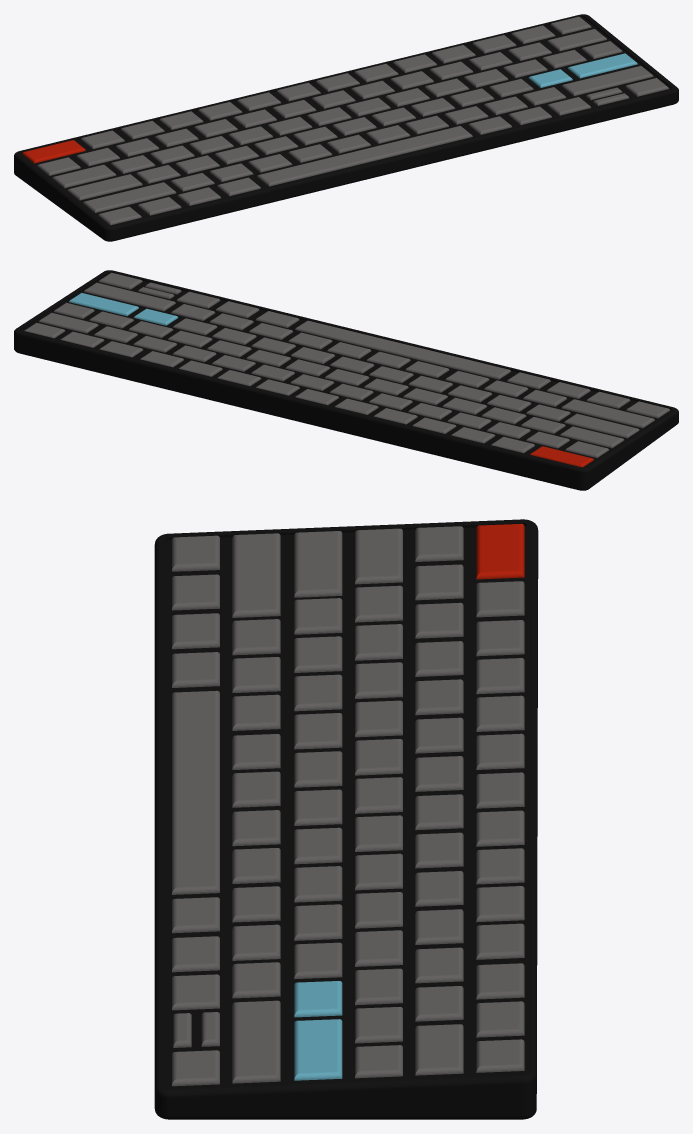
Rendered from keyboard .fbx.
The picture shows the model from 3 angles, top to bottom: view 1: azimuth 30°, elevation 25°; view 2: azimuth 150°, elevation 25°; view 3: azimuth 270°, elevation 25°; orthographic projection. The views are drawn at different scales.
Parts seen in each view (by area): view 1: keyboard; view 2: keyboard; view 3: keyboard.
Boxes of the visible parts, bbox=[...] form: keyboard: bbox=[14, 14, 678, 241]; keyboard: bbox=[14, 270, 678, 490]; keyboard: bbox=[154, 519, 538, 1119].
Size of the model in its own units: 262 by 10.01 by 75.67.
